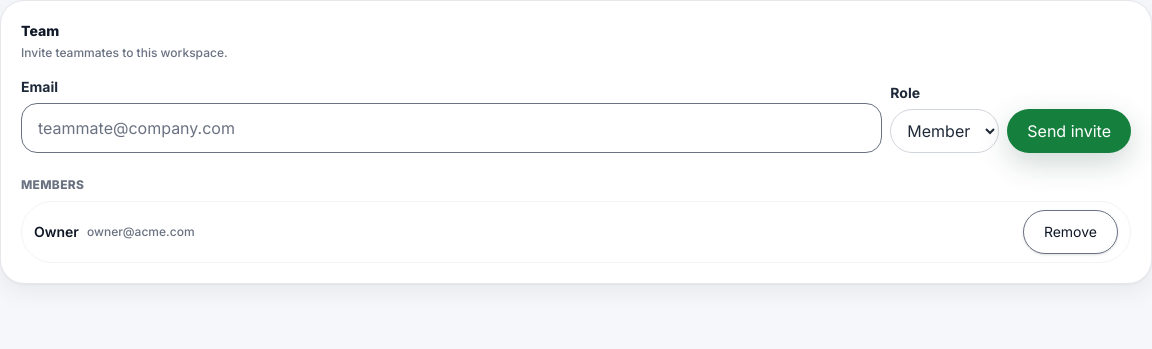
TeamCard › sends an invite and shows a confirmation
The width and height of the screenshot is (1152, 349).
Expected: the text "Owner" is shown, [34,222,79,242]
Type "new@acme.com" into the field with placeholder "teammate@company.com".
click(452, 128); type("new@acme.com")  # box [21,103,882,153]
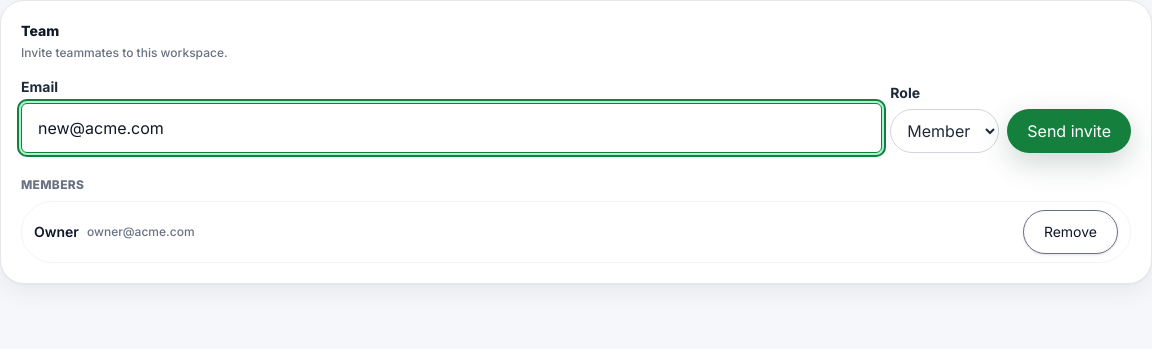
Click the button "Send invite".
click(1069, 131)  # box [1007,109,1131,153]
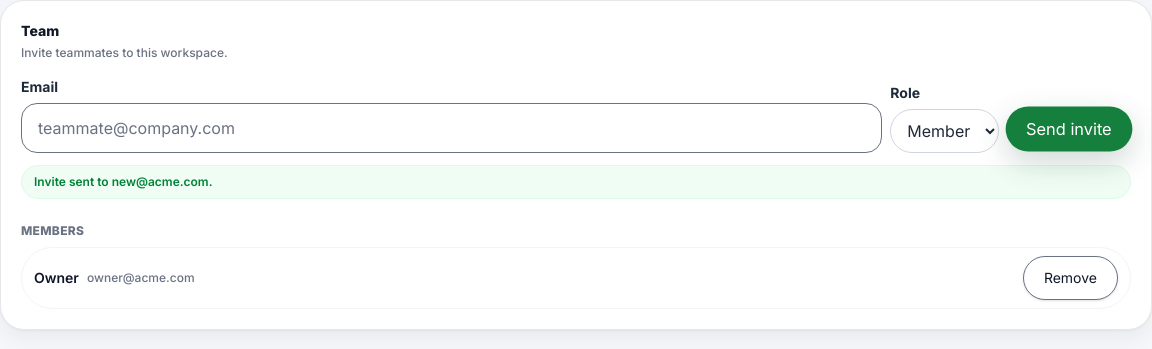
Now the text "Invite sent to new@acme.com." is shown, box [21,165,1131,199]
